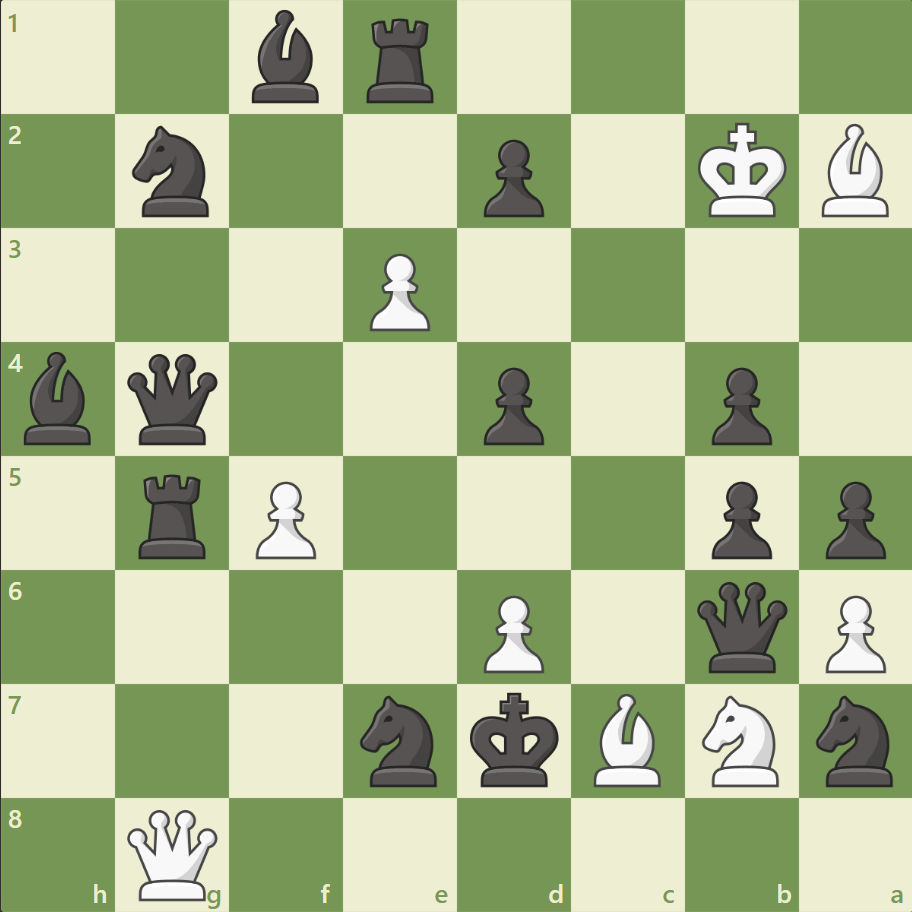B: (585, 687, 669, 790), (812, 120, 896, 222)
K: (692, 117, 792, 225)
N: (692, 688, 789, 791)
P: (474, 586, 549, 677), (247, 473, 322, 564), (815, 586, 889, 677), (361, 246, 435, 337)
Q: (124, 804, 223, 903)
b: (244, 6, 328, 109), (17, 347, 101, 449)
k: (465, 685, 565, 793)
n: (351, 688, 449, 791), (124, 121, 222, 223), (806, 688, 903, 791)
p: (701, 473, 776, 564), (701, 359, 776, 450), (474, 359, 549, 450), (474, 132, 549, 223), (815, 473, 889, 564)
q: (691, 576, 790, 676), (124, 349, 223, 449)
r: (133, 466, 215, 563), (360, 12, 442, 109)
